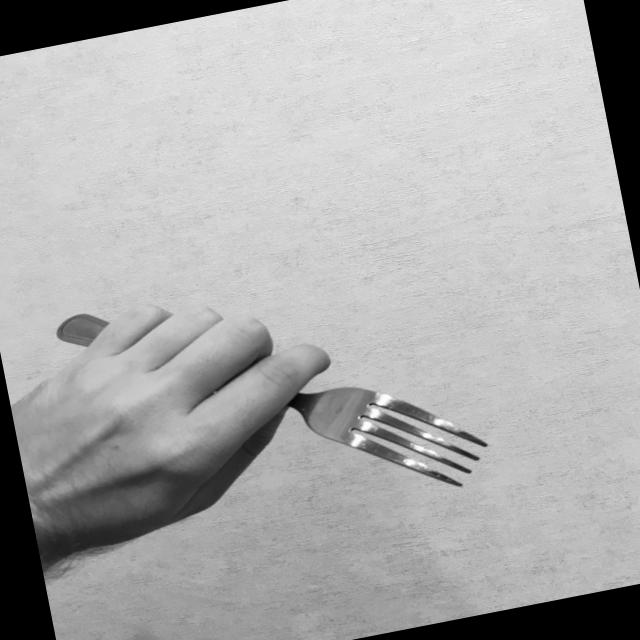fork: (52, 240, 499, 560)
